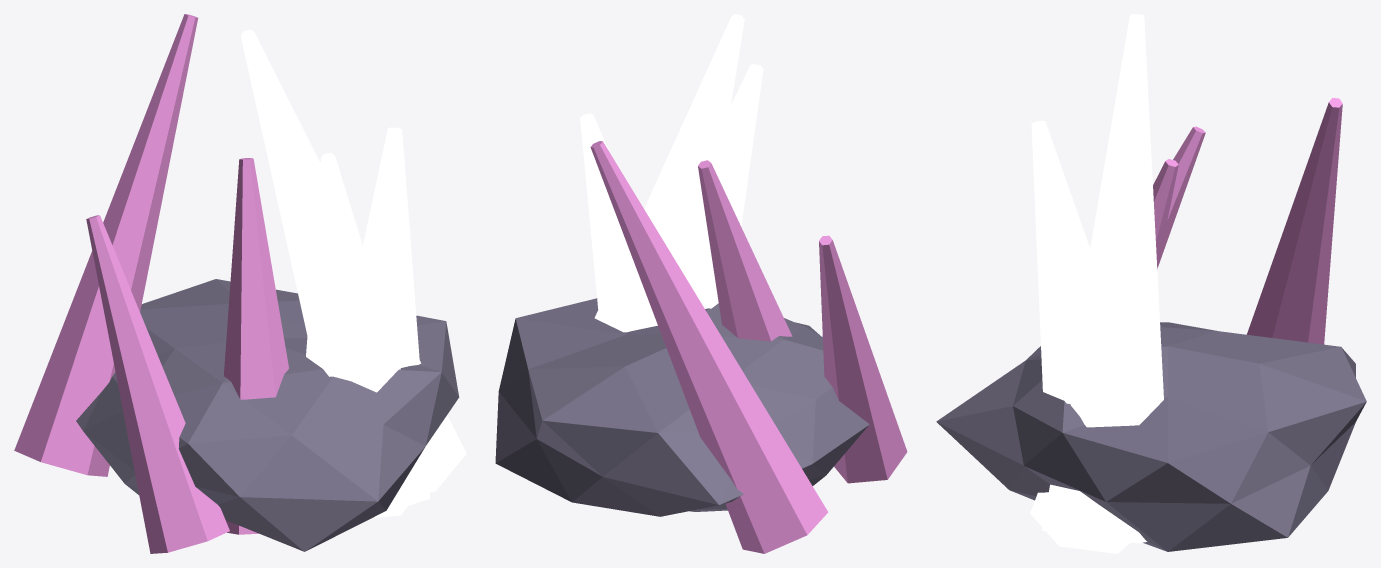
Rendered from kit__crystals.fbx.
The picture shows the model from 3 angles, left to right: view 1: azimuth 30°, elevation 25°; view 2: azimuth 150°, elevation 25°; view 3: azimuth 270°, elevation 25°; orthographic projection. The views are drawn at different scales.
Visible parts, largest first — view 1: kit__crystals; view 2: kit__crystals; view 3: kit__crystals.
Boxes of the visible parts, box(x1,y1,x2,y2) form: kit__crystals: box(14, 14, 466, 553); kit__crystals: box(495, 14, 907, 553); kit__crystals: box(936, 14, 1366, 553).
Size of the model in its own units: 1.18 by 1.56 by 1.22.
